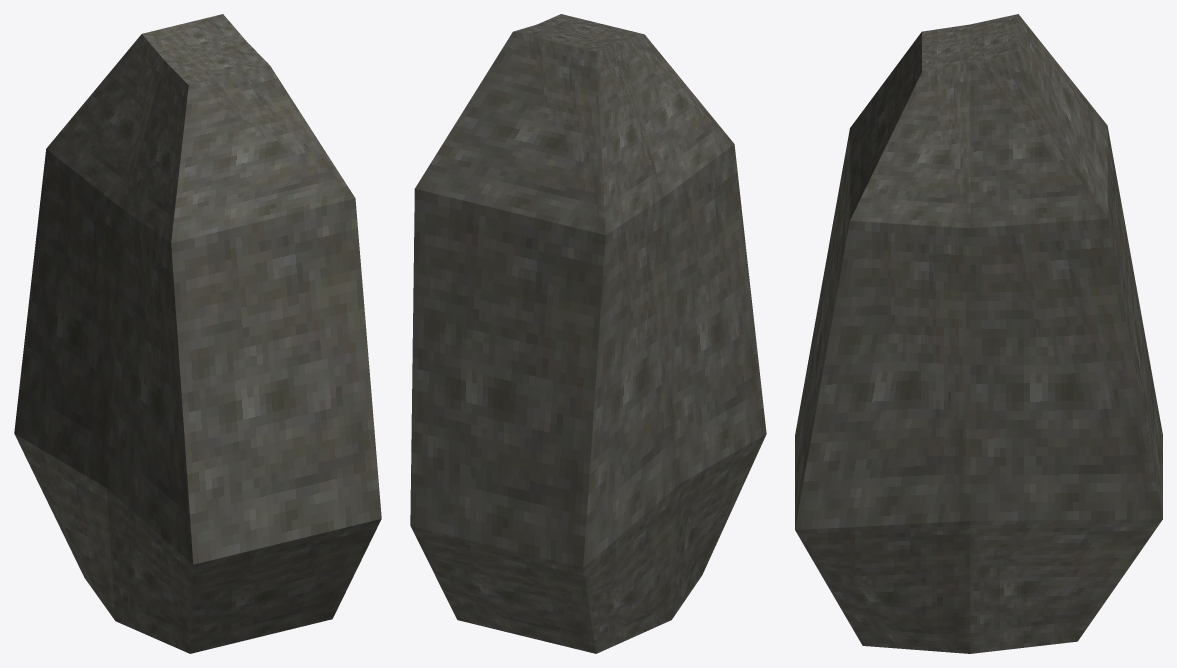
The model's file is rock-7.glb.
The picture shows the model from 3 angles, left to right: view 1: azimuth 30°, elevation 25°; view 2: azimuth 150°, elevation 25°; view 3: azimuth 270°, elevation 25°; orthographic projection. The views are drawn at different scales.
Parts seen in each view (by area): view 1: rock7-col; view 2: rock7-col; view 3: rock7-col.
Boxes of the visible parts, x1,y1,x2,y2 form: rock7-col: (14, 14, 381, 653); rock7-col: (410, 14, 766, 653); rock7-col: (795, 14, 1162, 653).
Size of the model in its own units: 3.39 by 8.98 by 5.21.
Materials: 1 (1 with a texture image).
